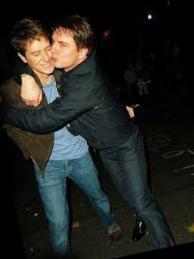Drunk: (52, 29, 77, 68), (27, 39, 53, 76)
